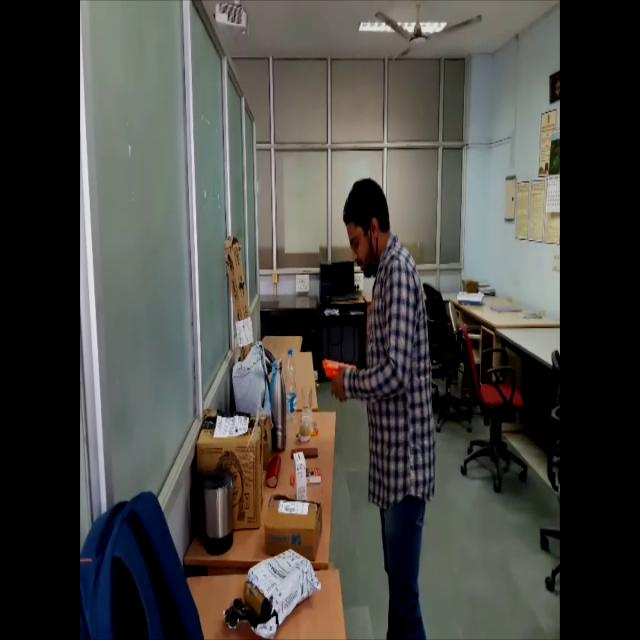normal: (319, 172, 440, 640)
